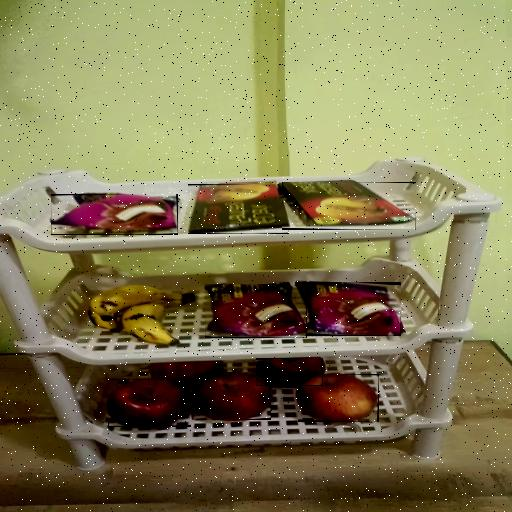Apple: (108, 379, 191, 427), (298, 374, 379, 422), (192, 372, 271, 420), (148, 361, 222, 389), (256, 358, 323, 386)
Choco Fills: (282, 182, 416, 230), (188, 184, 289, 234)
Choco Pie: (295, 282, 401, 336), (205, 284, 307, 338), (51, 194, 178, 235)
